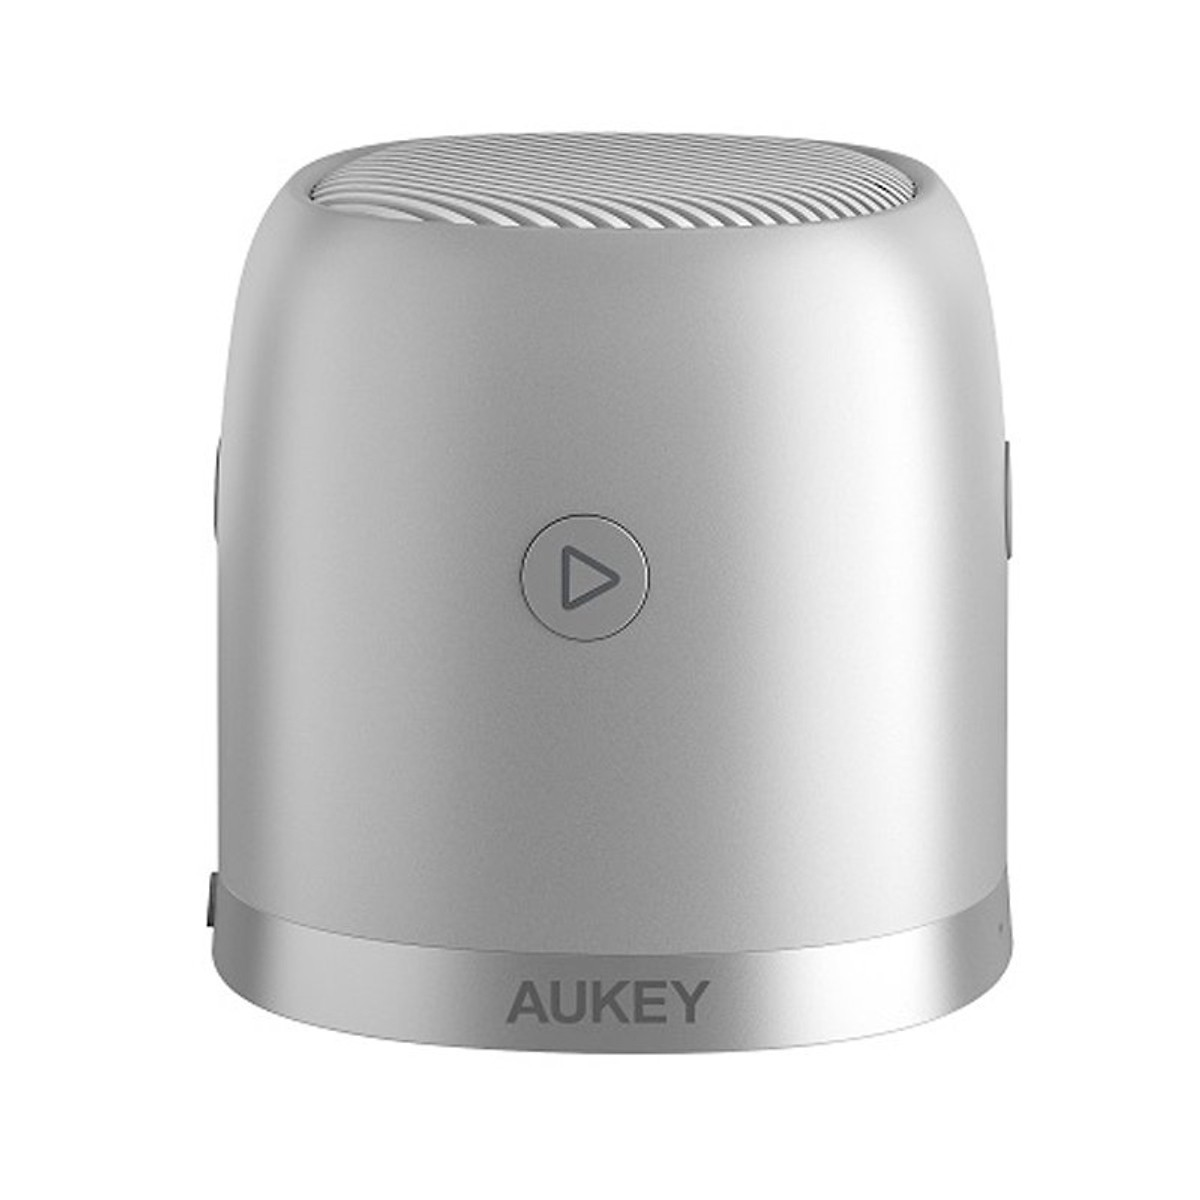Aukey: (407, 890, 925, 1184)
